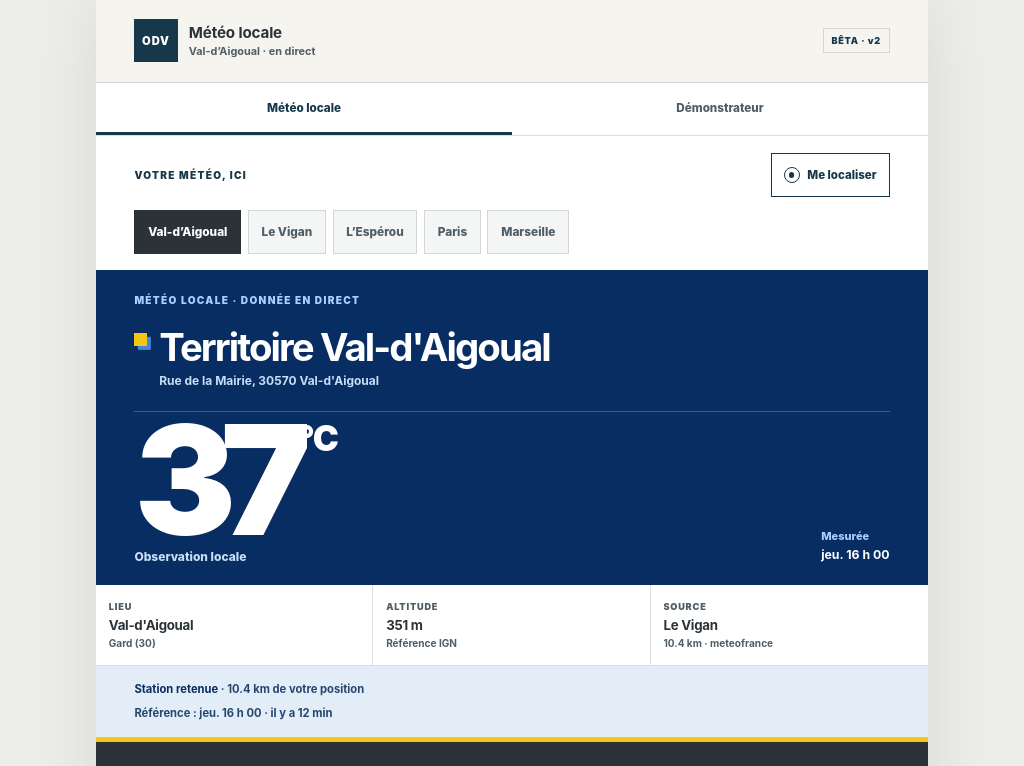
it: live gateway weather screen › expose les réponses Geography et Weather dans le démonstrateur
Expected: the heading "Territoire Val-d'Aigoual" is shown, left=159, top=328, right=550, bottom=366
What coordinates should you click on to do the following:
click the tab "Démonstrateur"
I would click on:
 (720, 109)
Its box is left=512, top=83, right=928, bottom=135.
(page scrolled)
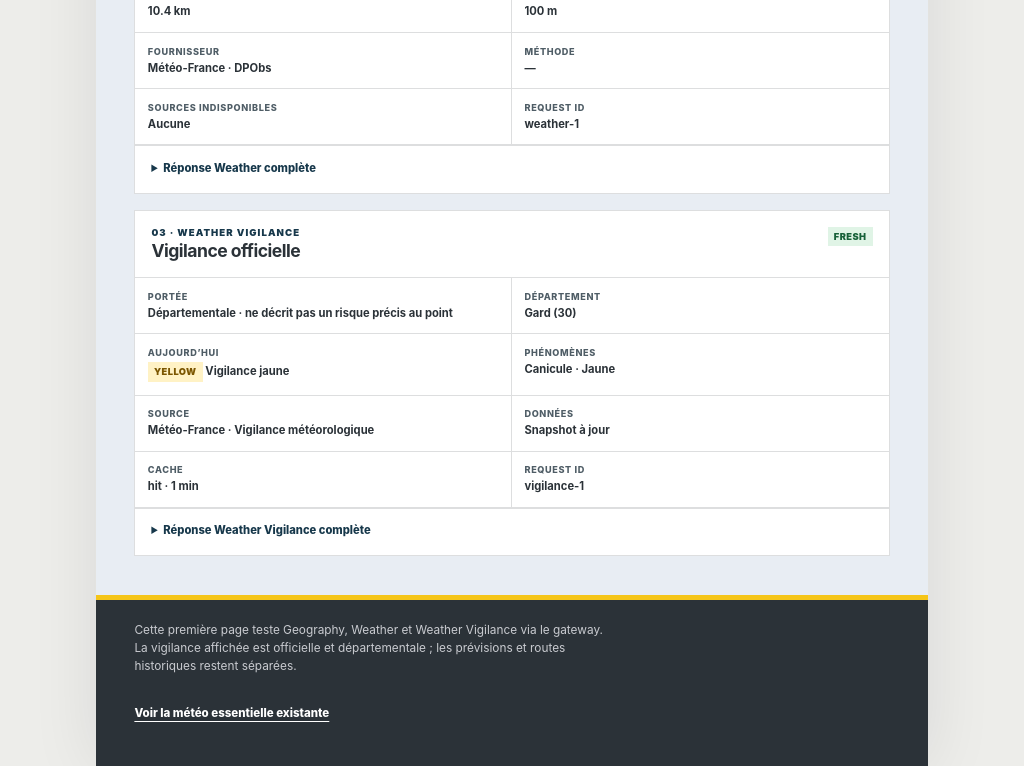
Result: the heading "Vigilance officielle" is shown at left=151, top=240, right=300, bottom=261
Result: the text "weather-1" is shown at left=524, top=117, right=579, bottom=131
Result: the text "vigilance-1" is shown at left=524, top=479, right=584, bottom=493
